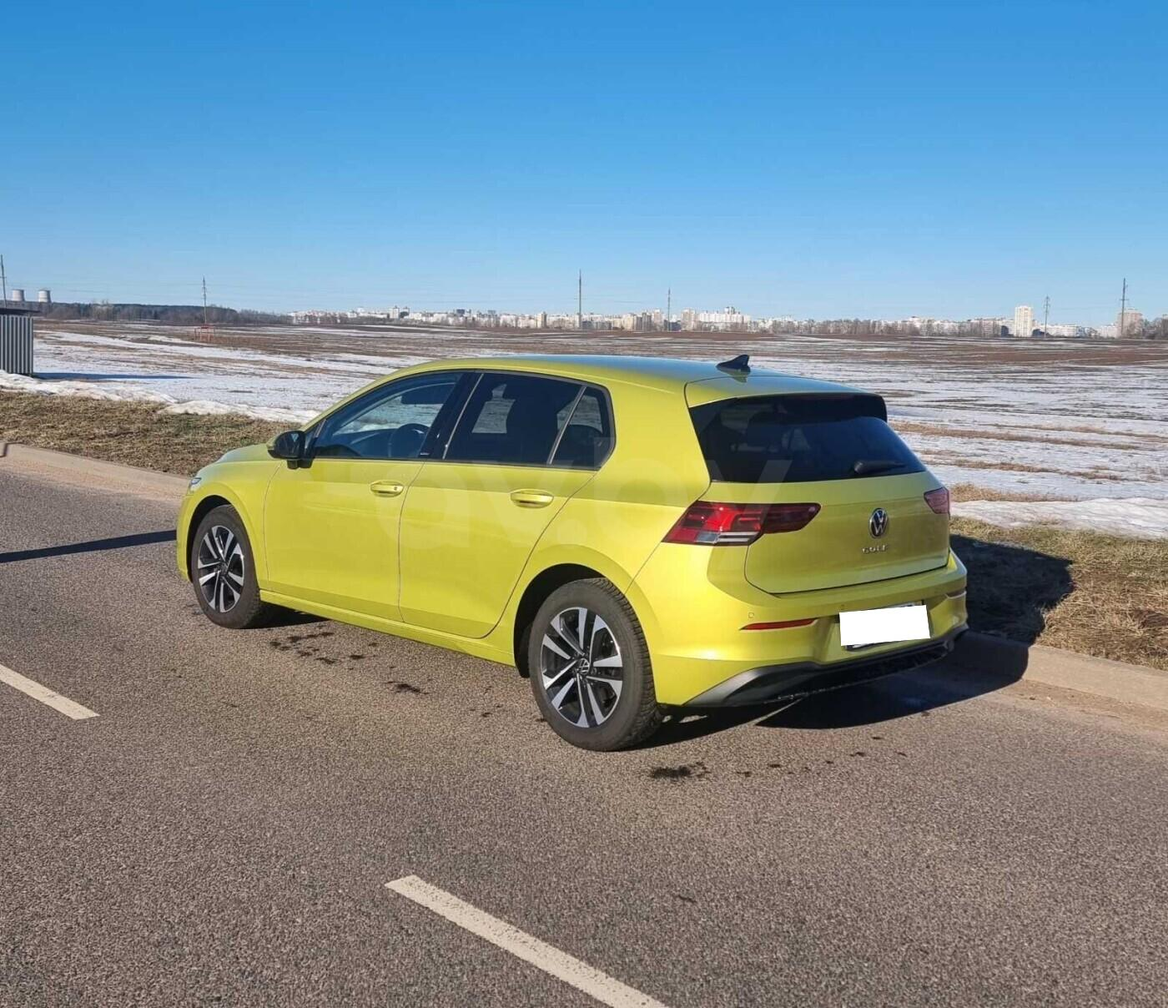Golf_2019: (177, 348, 971, 745)
